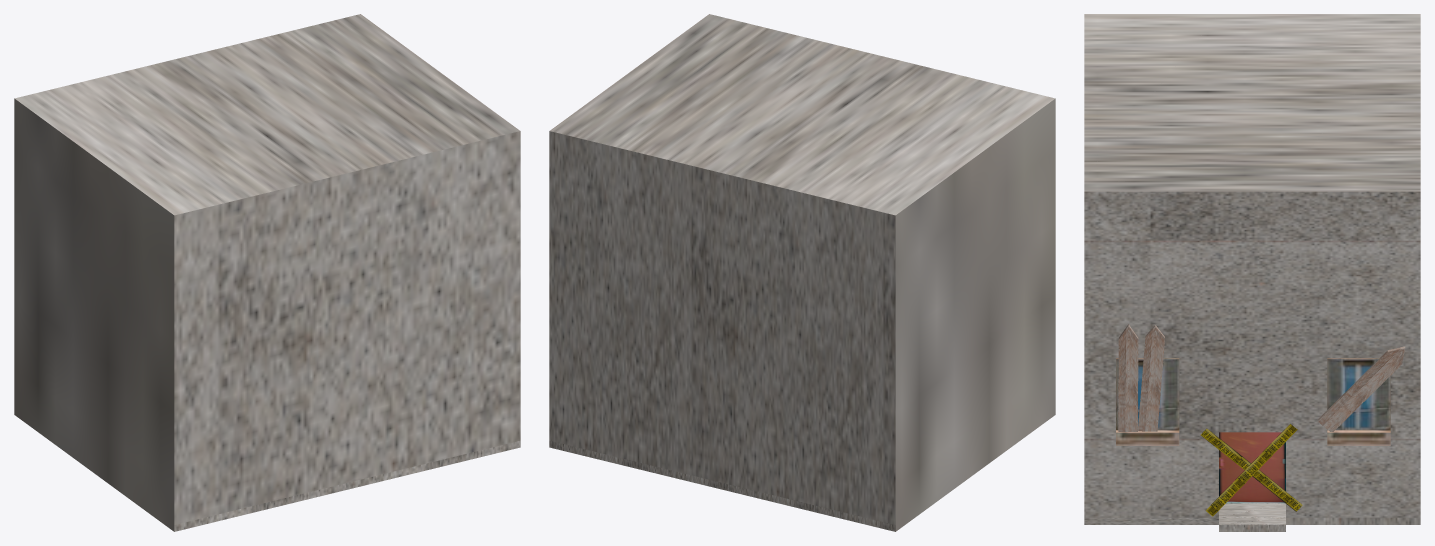
The model's file is building2.fbx.
3 views of the same model, side by side, from view 1: azimuth 30°, elevation 25°; view 2: azimuth 150°, elevation 25°; view 3: azimuth 270°, elevation 25° (orthographic). The views are drawn at different scales.
Visible parts, largest first — view 1: Cube; view 2: Cube; view 3: Cube, Cube.004, Cube.003, Cube.007, Cube.006, Cube.005, Cube.001, Cube.002.
Part boxes in pixels (left/top/right/bottom): Cube: left=14, top=14, right=520, bottom=531; Cube: left=549, top=14, right=1055, bottom=531; Cube: left=1084, top=14, right=1420, bottom=531; Cube.004: left=1327, top=358, right=1390, bottom=445; Cube.003: left=1116, top=358, right=1179, bottom=445; Cube.007: left=1317, top=346, right=1405, bottom=431; Cube.006: left=1138, top=325, right=1164, bottom=431; Cube.005: left=1118, top=324, right=1138, bottom=431; Cube.001: left=1205, top=424, right=1297, bottom=516; Cube.002: left=1200, top=428, right=1302, bottom=511.
Size of the model in its own units: 2600 by 2184 by 2000.
